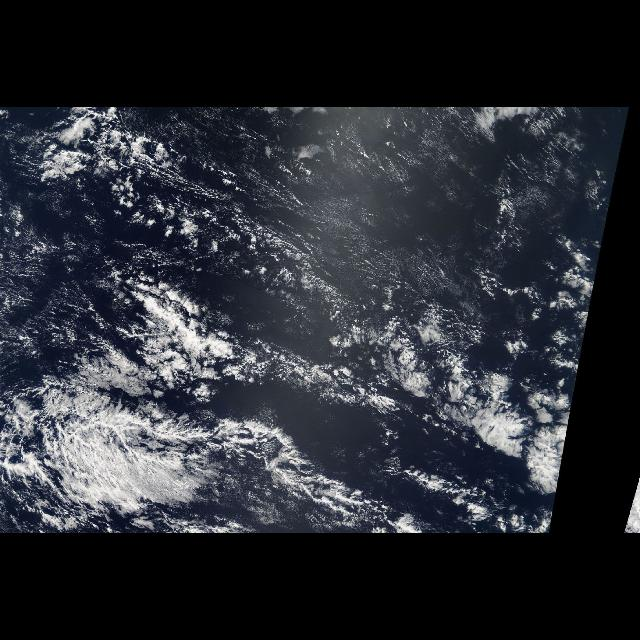Fish: (9, 371, 393, 517)
Flower: (311, 215, 609, 503)
Sugar: (208, 116, 628, 300), (7, 205, 93, 368)
